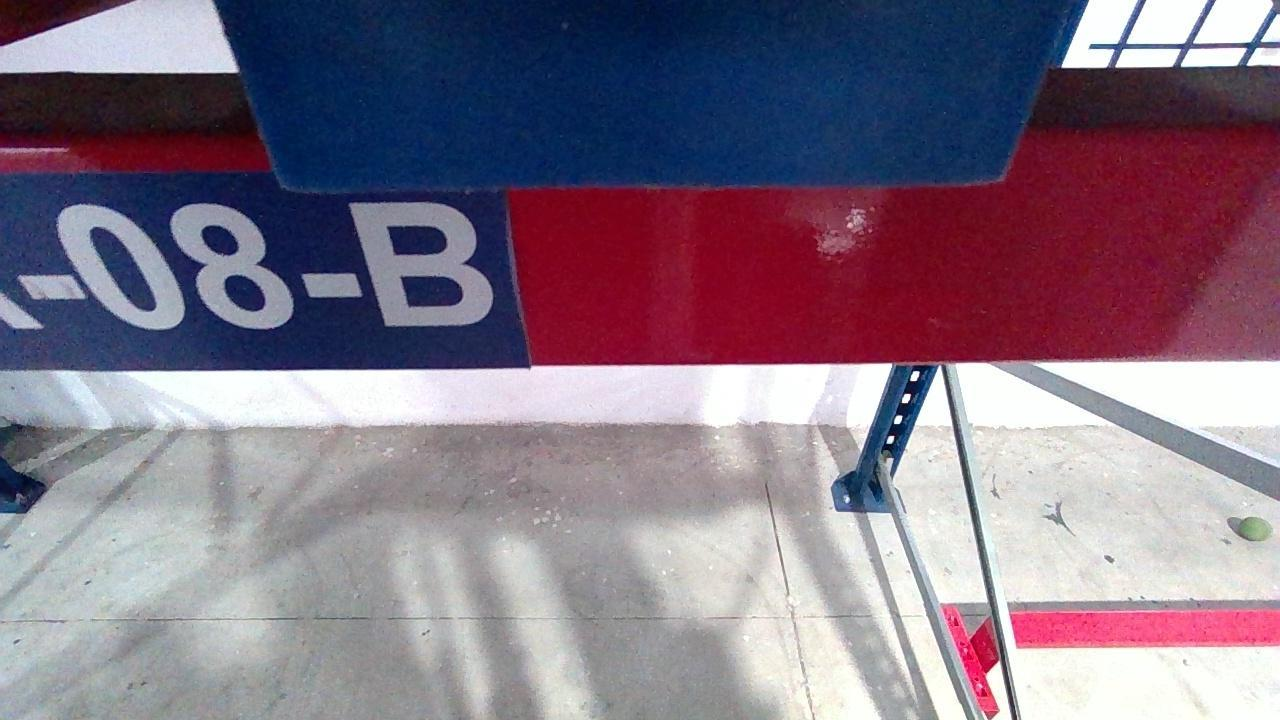h_rack: (2, 121, 1278, 363)
